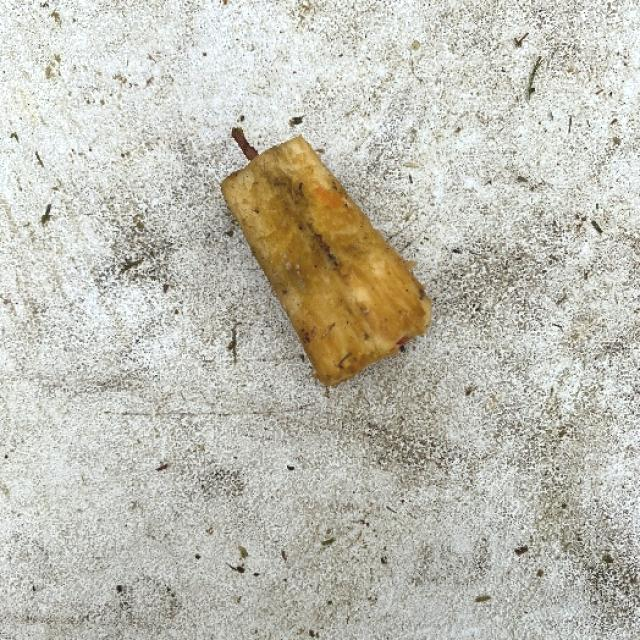organic: (182, 104, 452, 396)
